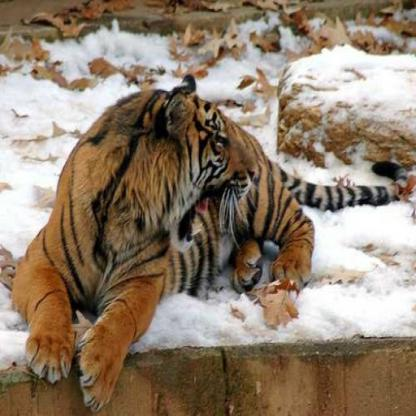Tiger: (0, 70, 369, 415)
